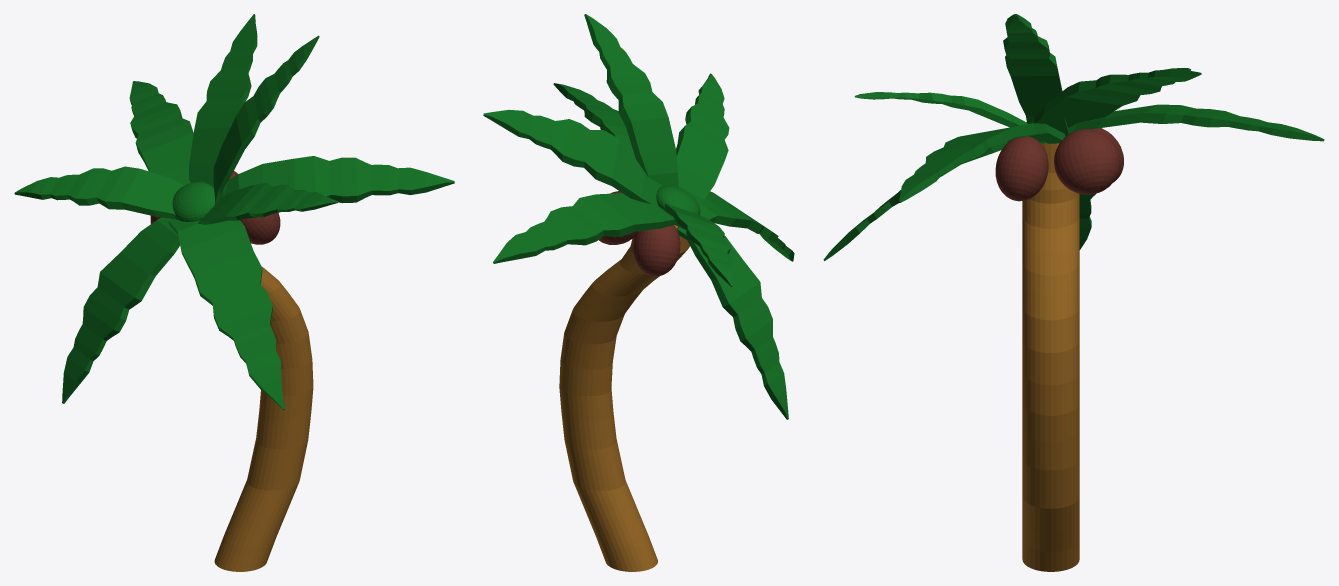
File: PalmTree.fbx
3 renders of one model, left to right at view 1: azimuth 30°, elevation 25°; view 2: azimuth 150°, elevation 25°; view 3: azimuth 270°, elevation 25°, orthographic. The views are drawn at different scales.
Parts seen in each view (by area): view 1: Cylinder, Cube.001, Cube.002, Cube.003, Cube.006, Cube.005, Cube.004, Cube.007, Cube.000, Sphere.003, Sphere.001; view 2: Cylinder, Cube.005, Cube.007, Cube.004, Cube.002, Cube.000, Cube.006, Sphere.002, Cube.001, Cube.003, Sphere.003; view 3: Cylinder, Cube.005, Cube.007, Cube.004, Sphere, Cube.003, Sphere.001, Cube.000, Cube.001.
Part boxes in pixels (bbox=[...]): Cylinder: bbox=[214, 266, 313, 571]; Cube.001: bbox=[168, 219, 284, 409]; Cube.002: bbox=[62, 217, 179, 403]; Cube.003: bbox=[224, 156, 454, 218]; Cube.006: bbox=[14, 166, 184, 219]; Cube.005: bbox=[189, 14, 257, 200]; Cube.004: bbox=[129, 81, 193, 219]; Cube.007: bbox=[213, 35, 319, 204]; Cube.000: bbox=[198, 183, 338, 224]; Sphere.003: bbox=[172, 182, 214, 221]; Sphere.001: bbox=[240, 212, 280, 244]; Cylinder: bbox=[559, 225, 689, 571]; Cube.005: bbox=[483, 109, 662, 205]; Cube.007: bbox=[584, 14, 678, 187]; Cube.004: bbox=[493, 193, 685, 263]; Cube.002: bbox=[676, 227, 788, 419]; Cube.000: bbox=[676, 73, 729, 204]; Cube.006: bbox=[664, 203, 732, 286]; Sphere.002: bbox=[633, 225, 680, 276]; Cube.001: bbox=[699, 191, 794, 261]; Cube.003: bbox=[553, 83, 632, 148]; Sphere.003: bbox=[656, 185, 700, 214]; Cylinder: bbox=[1022, 143, 1079, 571]; Cube.005: bbox=[1030, 69, 1201, 127]; Cube.007: bbox=[1003, 14, 1068, 136]; Cube.004: bbox=[1068, 104, 1324, 141]; Sphere: bbox=[1054, 129, 1120, 194]; Cube.003: bbox=[899, 123, 1065, 202]; Sphere.001: bbox=[995, 136, 1048, 201]; Cube.000: bbox=[854, 92, 1027, 127]; Cube.001: bbox=[823, 140, 1047, 260].
Size of the model in its own units: 6092 by 9680 by 7589.
